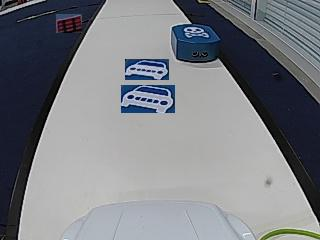danger: (185, 26, 209, 38)
